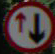Two way: (8, 5, 47, 47)
